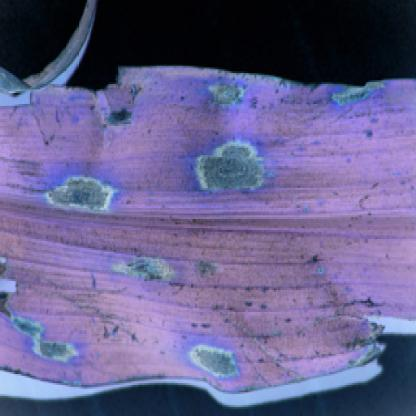Corn Gray leaf spot: (1, 66, 407, 401)
